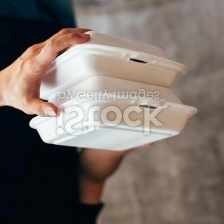foam_box: (21, 73, 199, 154), (26, 28, 189, 105)
